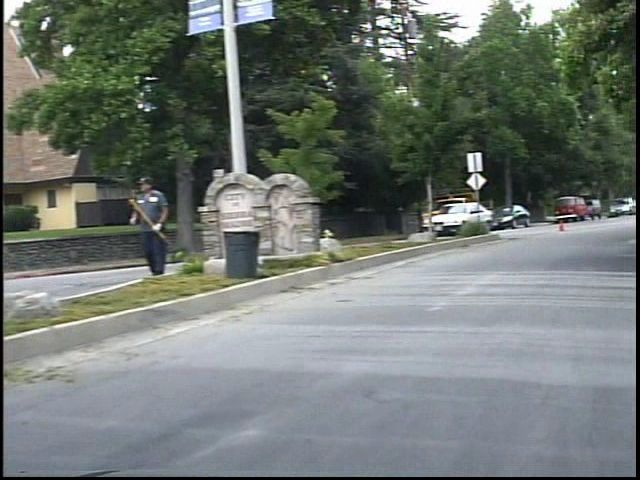person: (139, 170, 183, 279)
